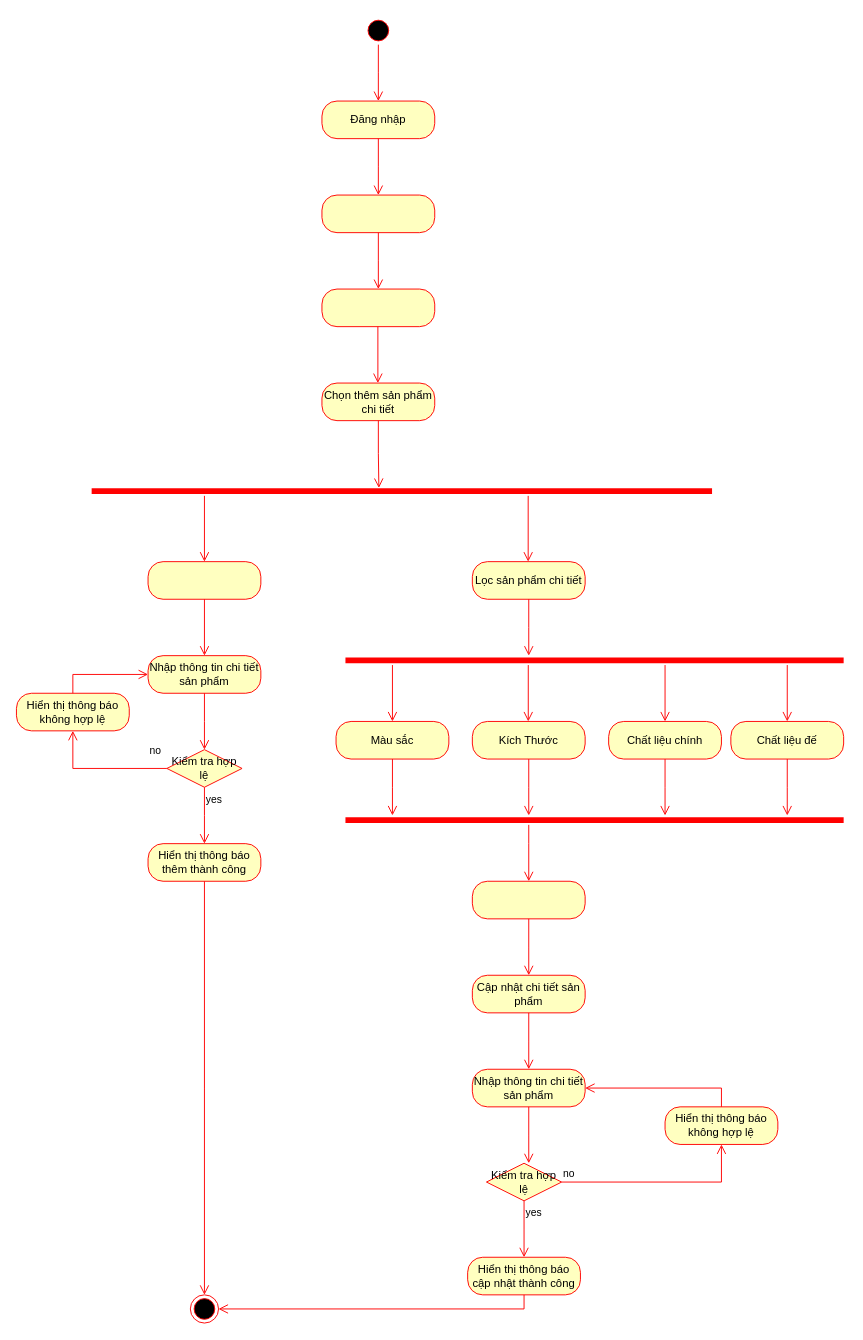
Some shapes in this 863 by 1340 pixel diagram are drawn without their labels. The shapes that lost their labels are listed below. From the top down, each one's centre as x and y in pixels, then its label:
At [378,213]: "Chọn quản lý sản phẩm".
At [378,307]: "Hiển thị màn hình quản lý sản phẩm".
At [204,580]: "Thêm mới sản phẩm chi tiết".
At [528,899]: "Hiển thị kết quả".
